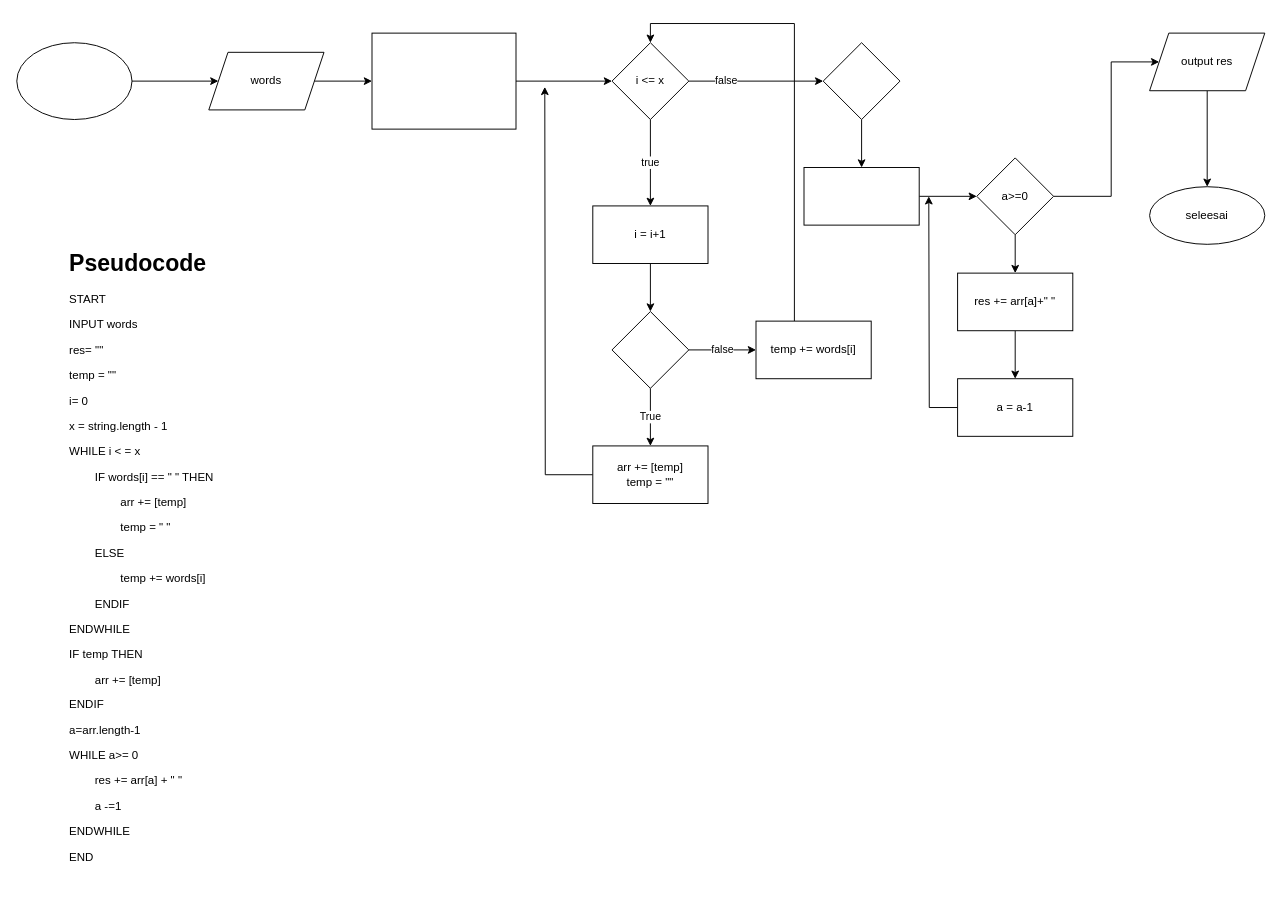
Image size: 1282x924. Some labels were removed from this diagram. The shapes that lost their labels are listed below. From the top down, each one's box as (x1, y1, x2, y2) in pixels, then its label:
(16, 42, 132, 120): mulai
(371, 32, 516, 129): res = "" temp = "" x = words.length - 1 i = 0 arr = [] a = 0
(822, 42, 900, 120): temp?
(803, 167, 919, 225): arr += [temp] a=arr.length-1
(611, 311, 689, 388): words[i] == " "
